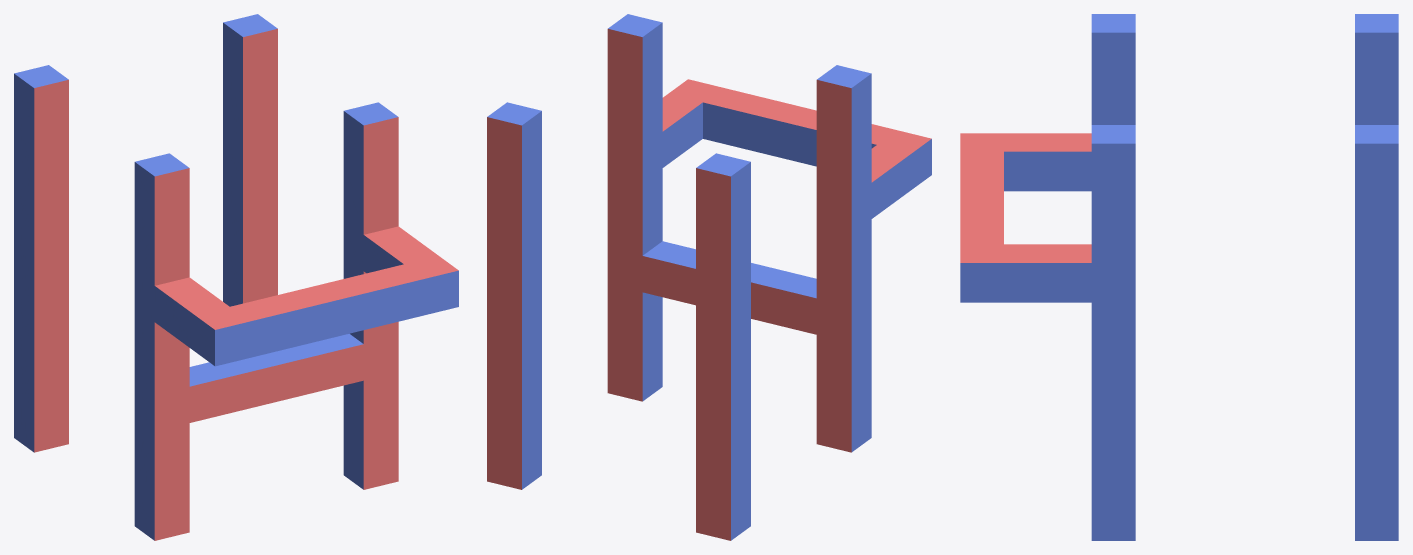
File: steane_blockgraph.dae
3 views of the same model, side by side, from view 1: azimuth 30°, elevation 25°; view 2: azimuth 150°, elevation 25°; view 3: azimuth 270°, elevation 25° (orthographic). The views are drawn at different scales.
Parts seen in each view (by area): view 1: ZXO (×21), ZXZ (×30), OZX (×4), OXZ (×4), ZOX (×4), ZZX (×5), XZX (×2), ZXX (×2); view 2: ZXO (×24), ZXZ (×31), OXZ (×4), ZOX (×4), ZXX (×4), OZX (×2), ZZX (×3), XZX (×2); view 3: ZXO (×8), ZXZ (×13), ZOX (×4), ZZX (×3), OZX (×2), ZXX, XZX.
Boxes of the visible parts, left/top/right/bottom form: ZXO (×21): left=14, top=59, right=398, bottom=504; ZXZ (×30): left=14, top=14, right=398, bottom=540; OZX (×4): left=230, top=264, right=423, bottom=357; OXZ (×4): left=189, top=333, right=363, bottom=422; ZOX (×4): left=154, top=226, right=438, bottom=351; ZZX (×5): left=195, top=256, right=458, bottom=366; XZX (×2): left=300, top=281, right=354, bottom=340; ZXX (×2): left=134, top=220, right=363, bottom=321; ZXO (×24): left=487, top=59, right=871, bottom=504; ZXZ (×31): left=487, top=14, right=871, bottom=540; OXZ (×4): left=642, top=241, right=816, bottom=334; ZOX (×4): left=662, top=94, right=911, bottom=218; ZXX (×4): left=607, top=132, right=871, bottom=233; OZX (×2): left=703, top=87, right=791, bottom=155; ZZX (×3): left=668, top=79, right=931, bottom=189; XZX (×2): left=772, top=104, right=816, bottom=163; ZXO (×8): left=1091, top=72, right=1398, bottom=501; ZXZ (×13): left=1091, top=14, right=1398, bottom=540; ZOX (×4): left=1004, top=133, right=1091, bottom=302; ZZX (×3): left=960, top=133, right=1003, bottom=302; OZX (×2): left=960, top=151, right=1003, bottom=244; ZXX: left=1091, top=263, right=1135, bottom=302; XZX: left=960, top=188, right=1003, bottom=207.
Size of the model in its own units: 7 by 10 by 10.
